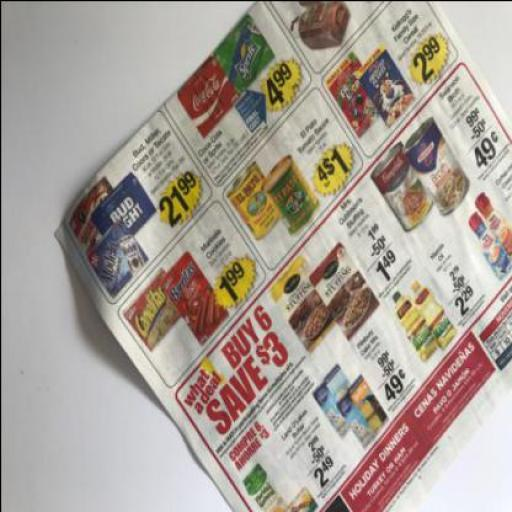paper: (54, 0, 511, 511)
